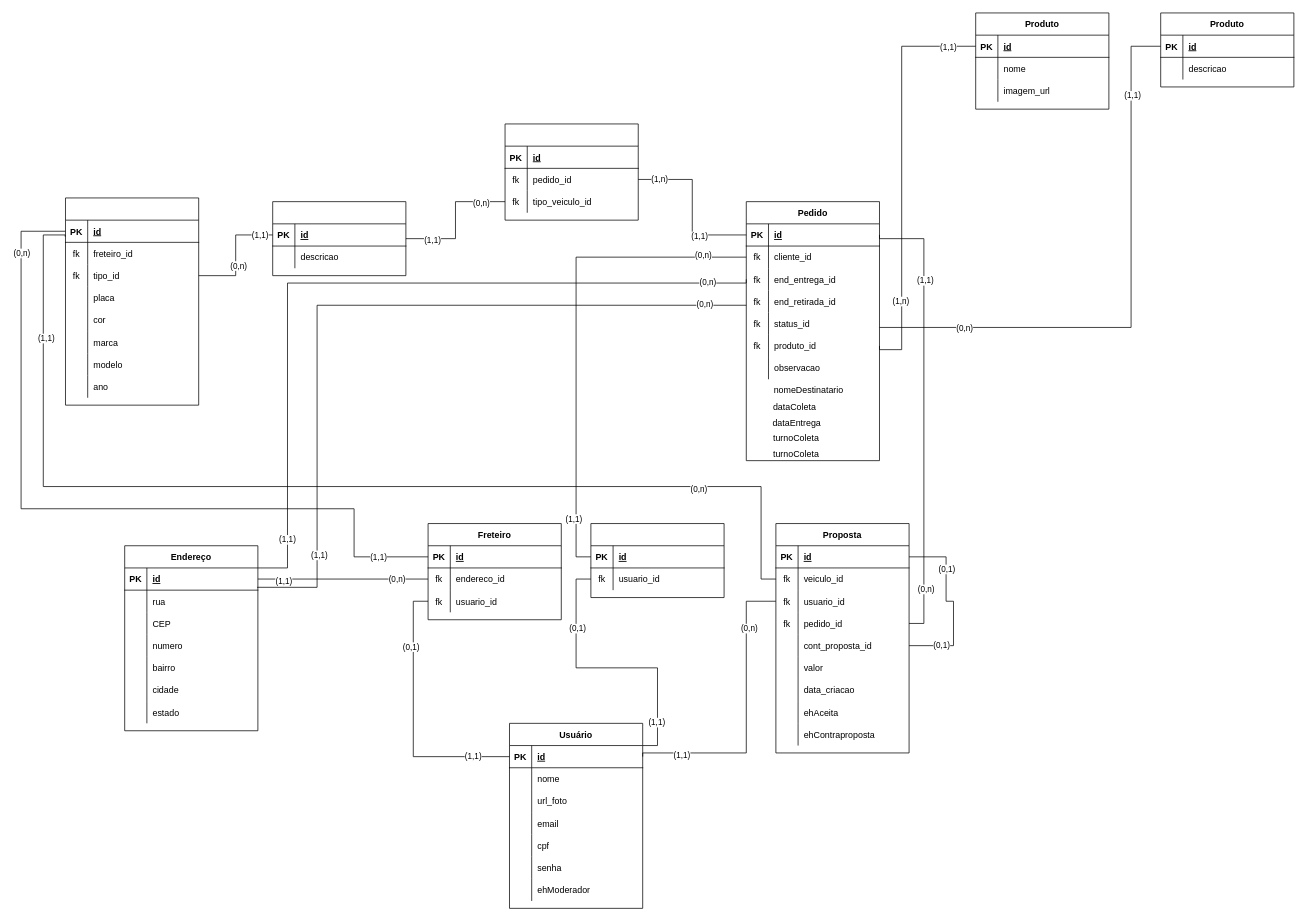
Some shapes in this 1307 by 921 pixel diagram are drawn without their labels. Here are the shapes that lost their labels. From the top down, the box of each, then its label:
(504, 123, 638, 220): PedidoTipoVeiculo
(272, 201, 406, 276): TipoVeiculo
(65, 197, 199, 405): Veiculo
(590, 523, 724, 598): Cliente
